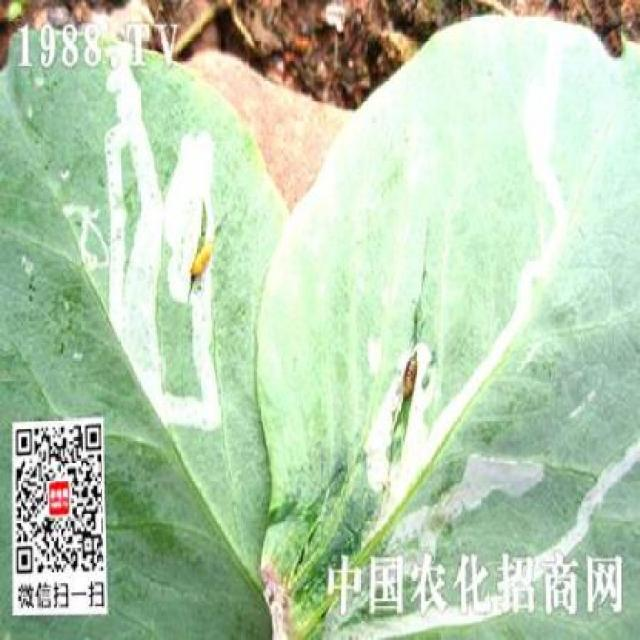whorl-maggot: (397, 337, 425, 406), (186, 231, 220, 286)
